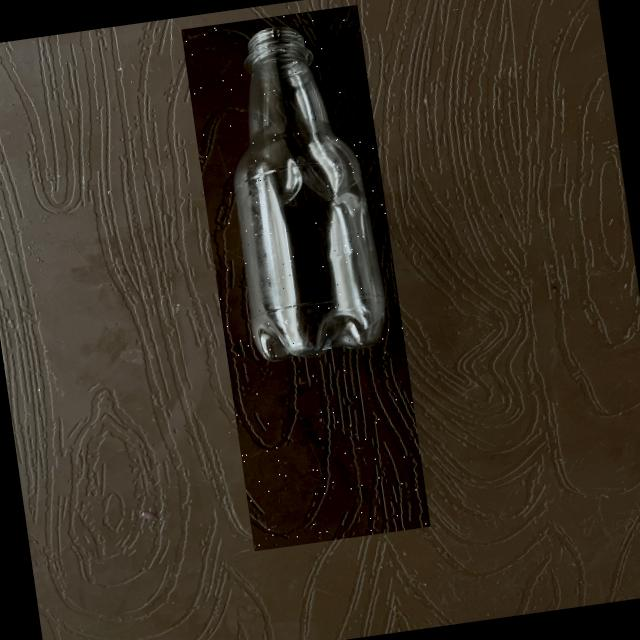PET_ClearBottle: (180, 4, 430, 551)
